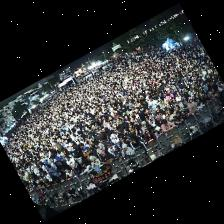person: (129, 137, 149, 157), (65, 157, 79, 173), (68, 147, 81, 163), (144, 129, 156, 146), (101, 150, 114, 164), (173, 111, 186, 124), (161, 120, 174, 132), (121, 144, 133, 157), (80, 159, 91, 173), (56, 161, 71, 171), (133, 125, 143, 139), (89, 156, 100, 168), (141, 121, 152, 133), (46, 165, 58, 176), (148, 115, 158, 128), (97, 143, 107, 156), (50, 175, 62, 185), (187, 98, 195, 113), (86, 148, 96, 159), (201, 93, 210, 105), (65, 169, 74, 181), (110, 134, 119, 146), (107, 142, 114, 157), (175, 98, 183, 111), (124, 128, 132, 141), (118, 119, 128, 129), (155, 107, 165, 117), (94, 130, 103, 141), (114, 146, 121, 159), (119, 138, 129, 147), (166, 110, 174, 121), (165, 91, 172, 103), (195, 100, 202, 112), (165, 103, 174, 112), (57, 170, 65, 180), (207, 92, 215, 102), (181, 97, 187, 110), (117, 128, 124, 139), (36, 181, 45, 189), (155, 127, 163, 136), (197, 88, 204, 98), (159, 100, 166, 110), (104, 128, 111, 138), (99, 139, 107, 147), (157, 112, 165, 120), (156, 116, 162, 126), (103, 122, 110, 130), (32, 183, 39, 191), (173, 106, 180, 114), (38, 176, 45, 182)
